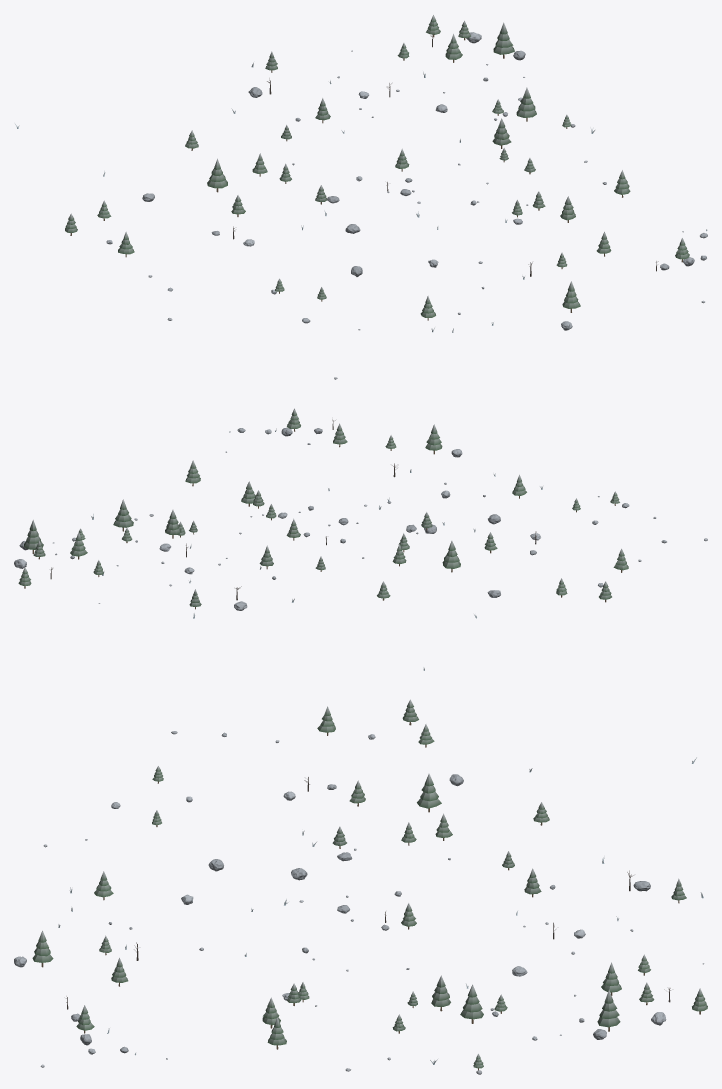
The model's file is frost_land_scatter_c14_11.glb.
3 views of the same model, one above another, from view 1: azimuth 30°, elevation 25°; view 2: azimuth 150°, elevation 25°; view 3: azimuth 270°, elevation 25° (orthographic). The views are drawn at different scales.
Parts seen in each view (by area): view 1: frost_land_scatter_c14_11; view 2: frost_land_scatter_c14_11; view 3: frost_land_scatter_c14_11.
Part boxes in pixels (x1,y1,x2,y2): frost_land_scatter_c14_11: (14,15,707,379); frost_land_scatter_c14_11: (14,408,707,670); frost_land_scatter_c14_11: (14,699,707,1074).
Bounding box in the file's own units: 258 × 45.48 × 248.
